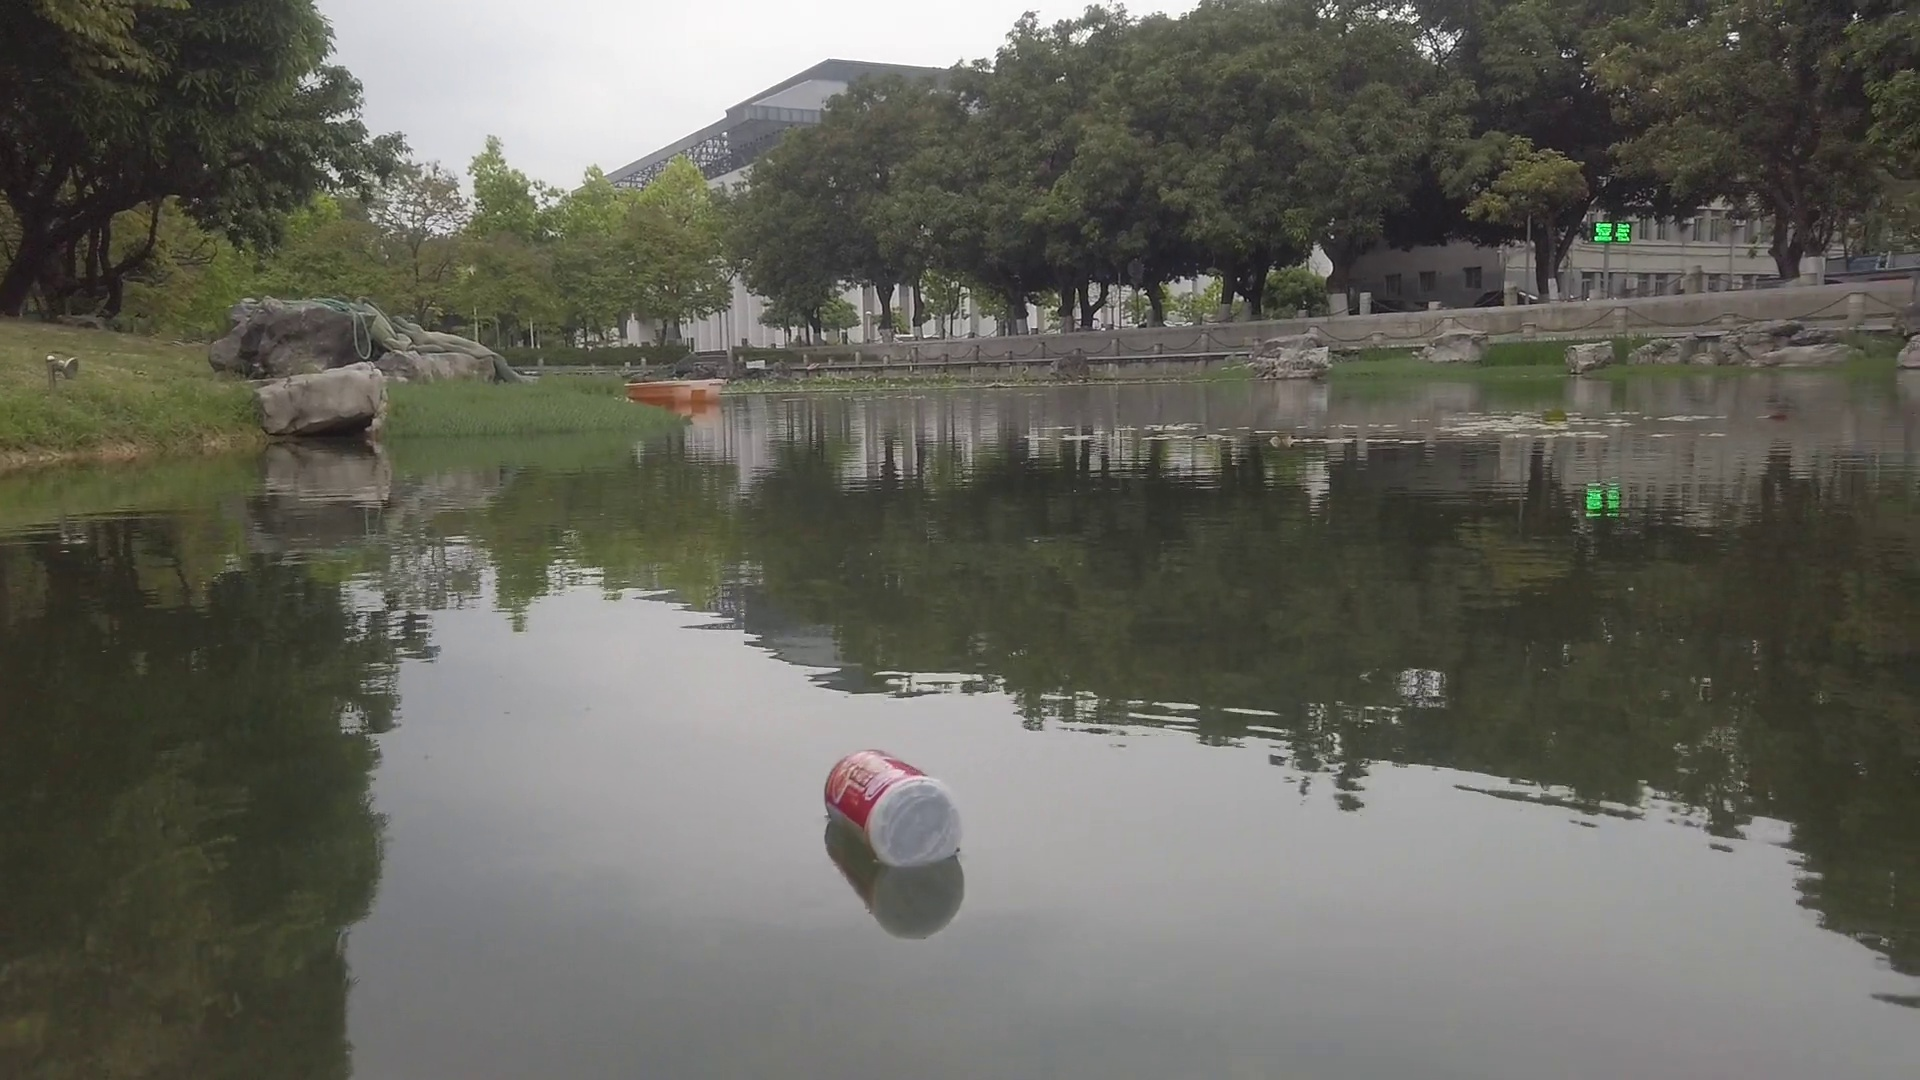bottle: (825, 742, 971, 872)
